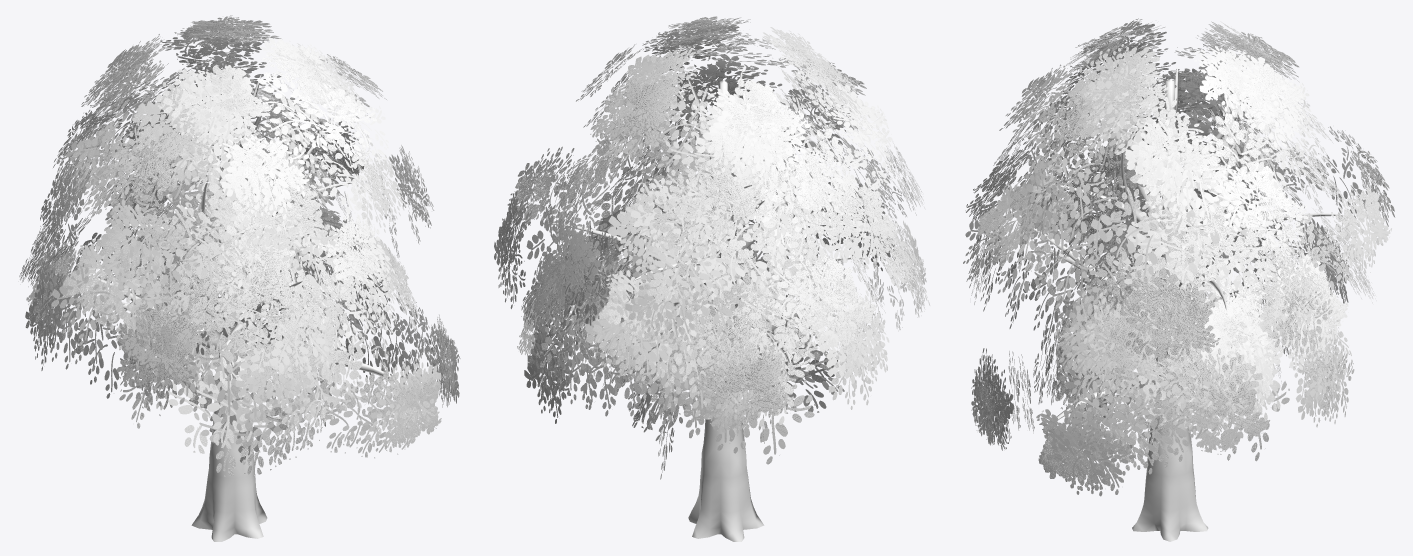
The model's file is Tree_1.obj.
3 renders of one model, left to right at view 1: azimuth 30°, elevation 25°; view 2: azimuth 150°, elevation 25°; view 3: azimuth 270°, elevation 25°, orthographic.
Parts seen in each view (by area): view 1: leaf_text, object 1; view 2: leaf_text, object 1; view 3: leaf_text, object 1.
Part boxes in pixels (x1,y1,x2,y2): leaf_text: [19, 15, 460, 476]; object 1: [80, 74, 399, 541]; leaf_text: [494, 16, 930, 479]; object 1: [548, 68, 864, 541]; leaf_text: [963, 18, 1395, 496]; object 1: [1033, 66, 1342, 541].
Size of the model in its own units: 481 by 584 by 471.
2 materials, 1 textured.
